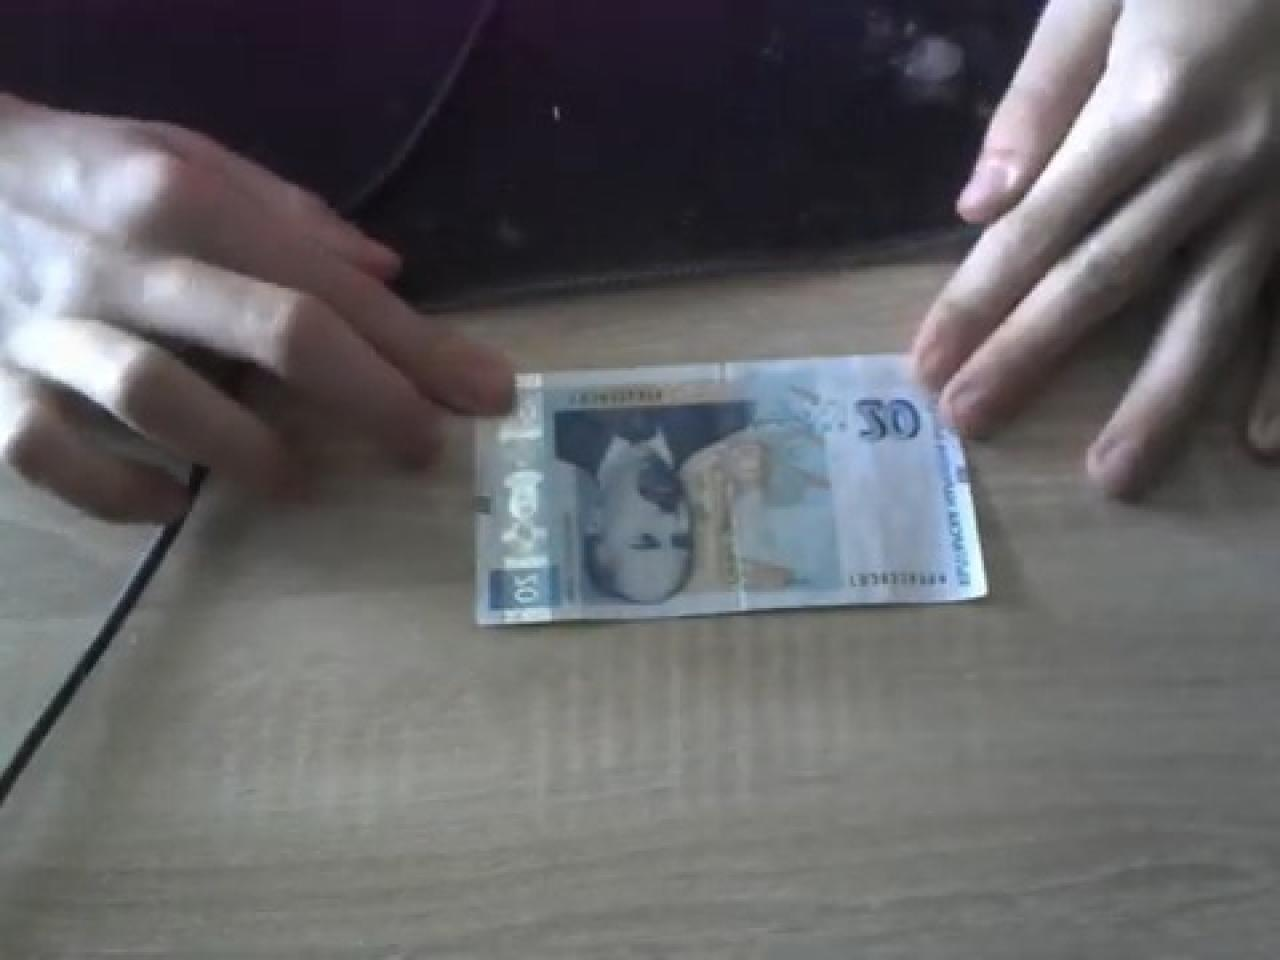20leva: (472, 349, 992, 627)
